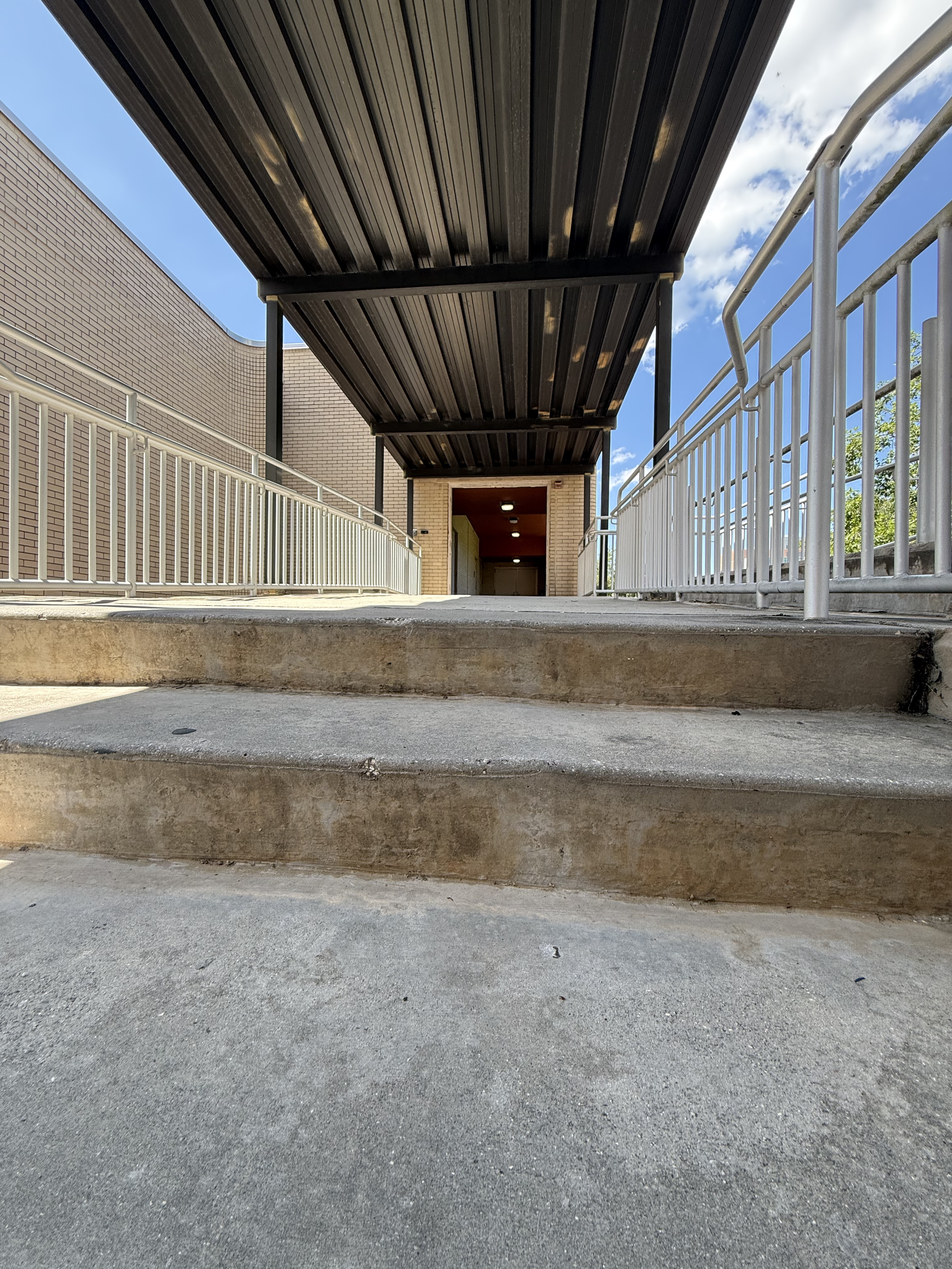stairs: (0, 609, 952, 909)
